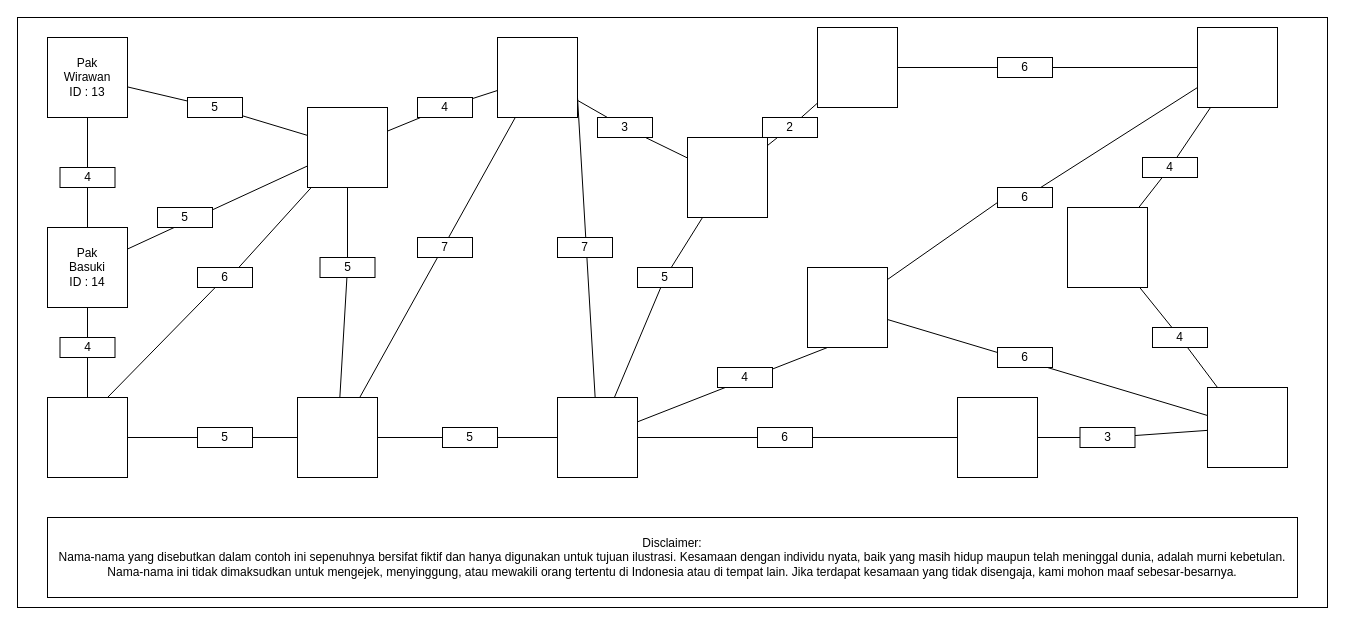
This 1345x625 diagram has some shape labels left out. The shapes that lost their labels are listed below. From the top down, each one's centre as x and y in pixels, then its label:
At (537,77): "Pak Sumanto ID : 6".
At (857,67): "Pak Maryono ID :10".
At (1237,67): "Pak Hadi ID : 7".
At (347,147): "Pak Widodo ID : 11".
At (727,177): "Pak Jumali ID : 4".
At (1107,247): "Pak Purwoadi ID : 9".
At (847,307): "Pak Sunarno ID : 2".
At (87,437): "Pak Suwarno ID : 12".
At (337,437): "Pak Sutrisno ID : 3".
At (597,437): "Pak Handoko ID : 1".
At (997,437): "Pak Joko ID : 5".
At (1247,427): "Pak Sumono ID : 8".
